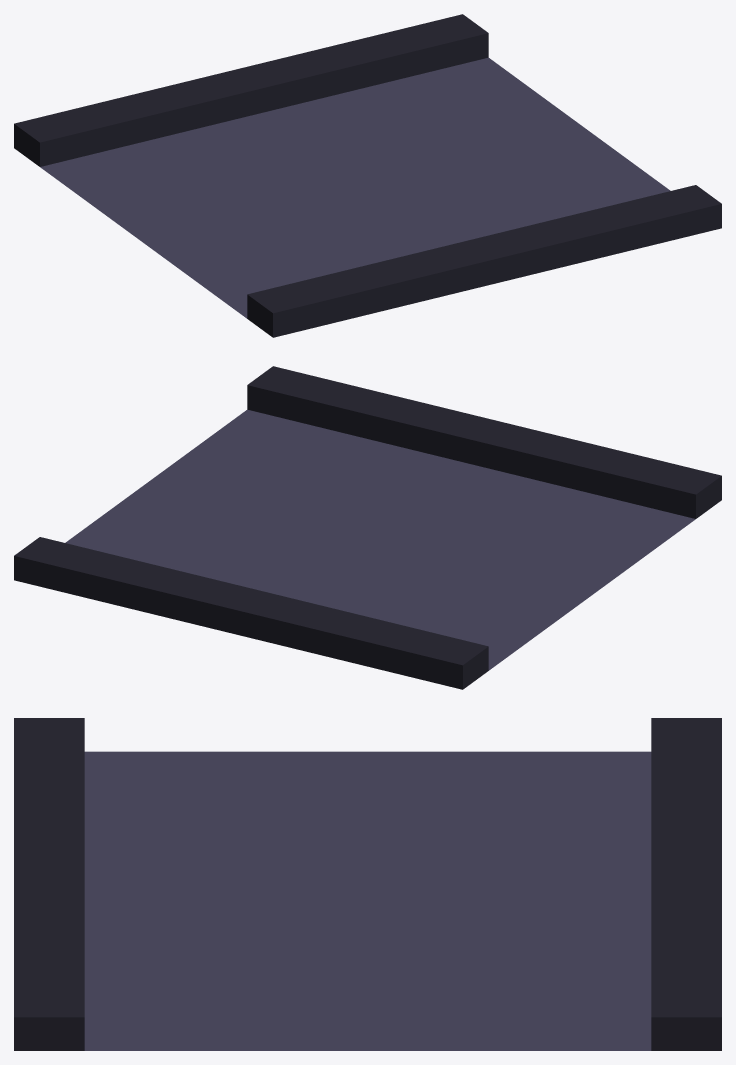
Rendered from Road.fbx.
3 renders of one model, top to bottom at view 1: azimuth 30°, elevation 25°; view 2: azimuth 150°, elevation 25°; view 3: azimuth 270°, elevation 25°, orthographic. The views are drawn at different scales.
Parts seen in each view (by area): view 1: SM_Road; view 2: SM_Road; view 3: SM_Road.
Part boxes in pixels (left/top/right/bottom): SM_Road: left=14, top=14, right=721, bottom=337; SM_Road: left=14, top=366, right=721, bottom=689; SM_Road: left=14, top=718, right=721, bottom=1050.
Size of the model in its own units: 100 by 5.21 by 100.
